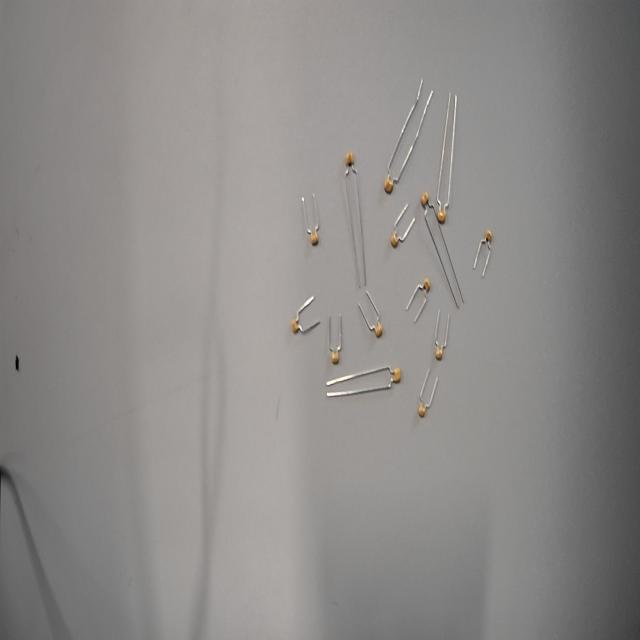capacitor: (300, 206, 332, 267), (334, 137, 366, 186), (282, 299, 309, 350), (376, 155, 402, 207), (364, 308, 392, 349), (431, 196, 458, 236), (326, 331, 347, 378), (383, 358, 410, 393), (411, 180, 434, 220), (382, 221, 408, 256), (415, 266, 435, 307), (477, 218, 498, 257)
